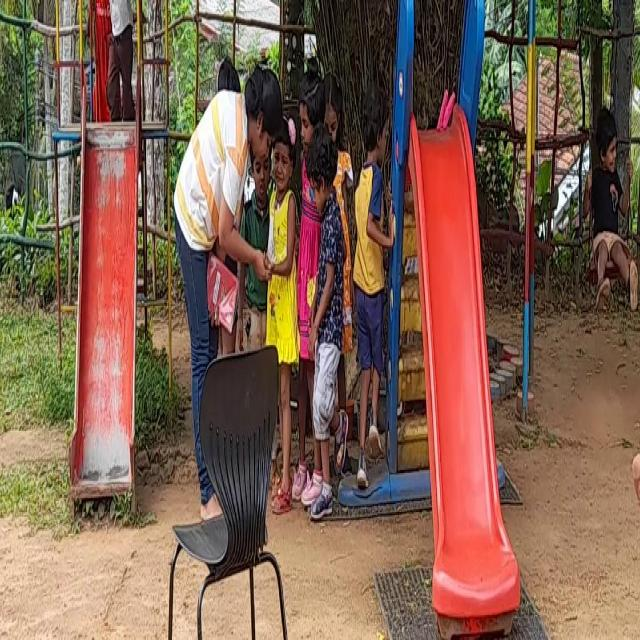child: (354, 84, 394, 487), (307, 131, 347, 506), (586, 92, 634, 328), (275, 126, 301, 460), (86, 0, 142, 119)
